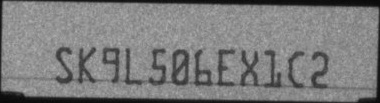0: (171, 48, 190, 86)
1: (262, 47, 282, 87)
2: (309, 50, 329, 88)
5: (148, 47, 167, 85)
6: (194, 49, 211, 86)
9: (101, 47, 119, 84)
C: (286, 50, 305, 88)
E: (217, 48, 235, 86)
K: (78, 47, 95, 85)
L: (125, 47, 143, 85)
S: (54, 45, 74, 83)
X: (240, 49, 258, 85)
